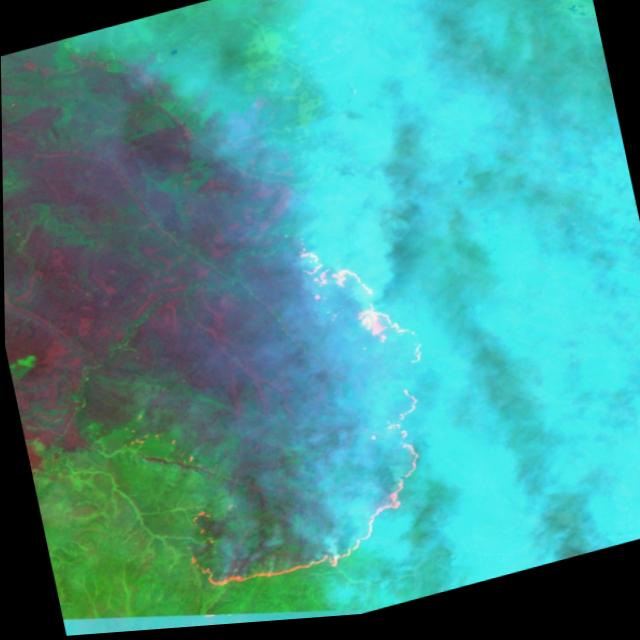fire: (126, 223, 475, 610)
